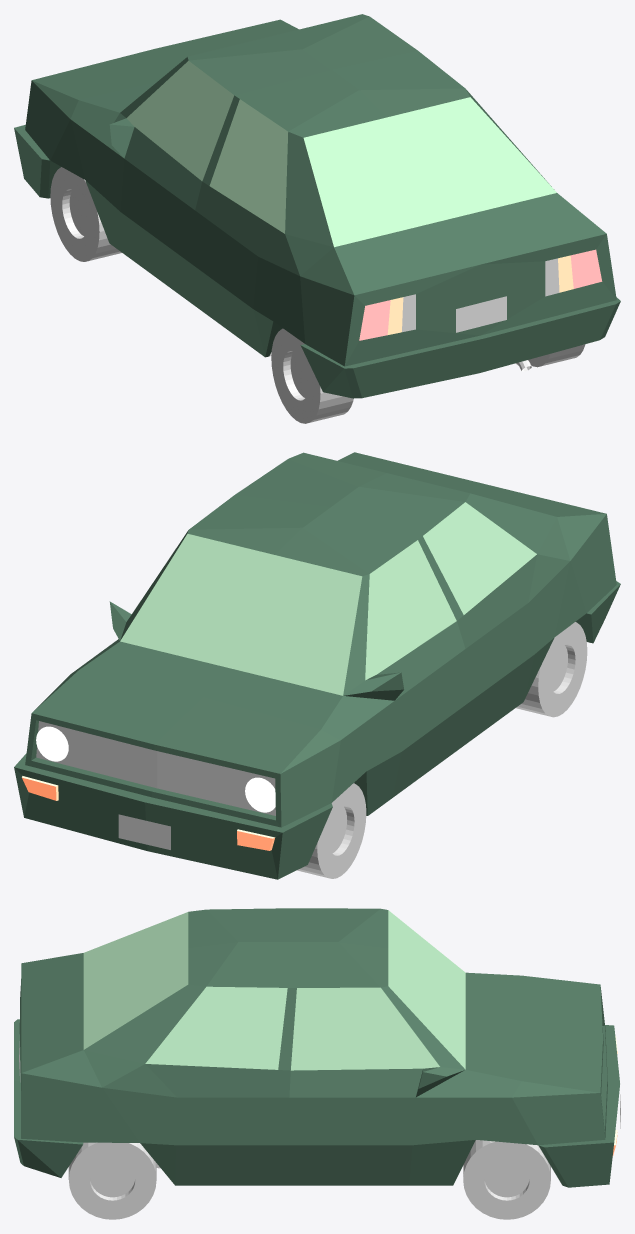
File: car_green_flip.glb
3 views of the same model, one above another, from view 1: azimuth 30°, elevation 25°; view 2: azimuth 150°, elevation 25°; view 3: azimuth 270°, elevation 25° (orthographic). The views are drawn at different scales.
Visible parts, largest first — view 1: Car.002; view 2: Car.002; view 3: Car.002.
Boxes of the visible parts, x1,y1,x2,y2 form: Car.002: (14,14,620,423); Car.002: (14,452,620,879); Car.002: (14,908,620,1219).
Bounding box in the file's own units: 3.91 × 3.14 × 7.87.
